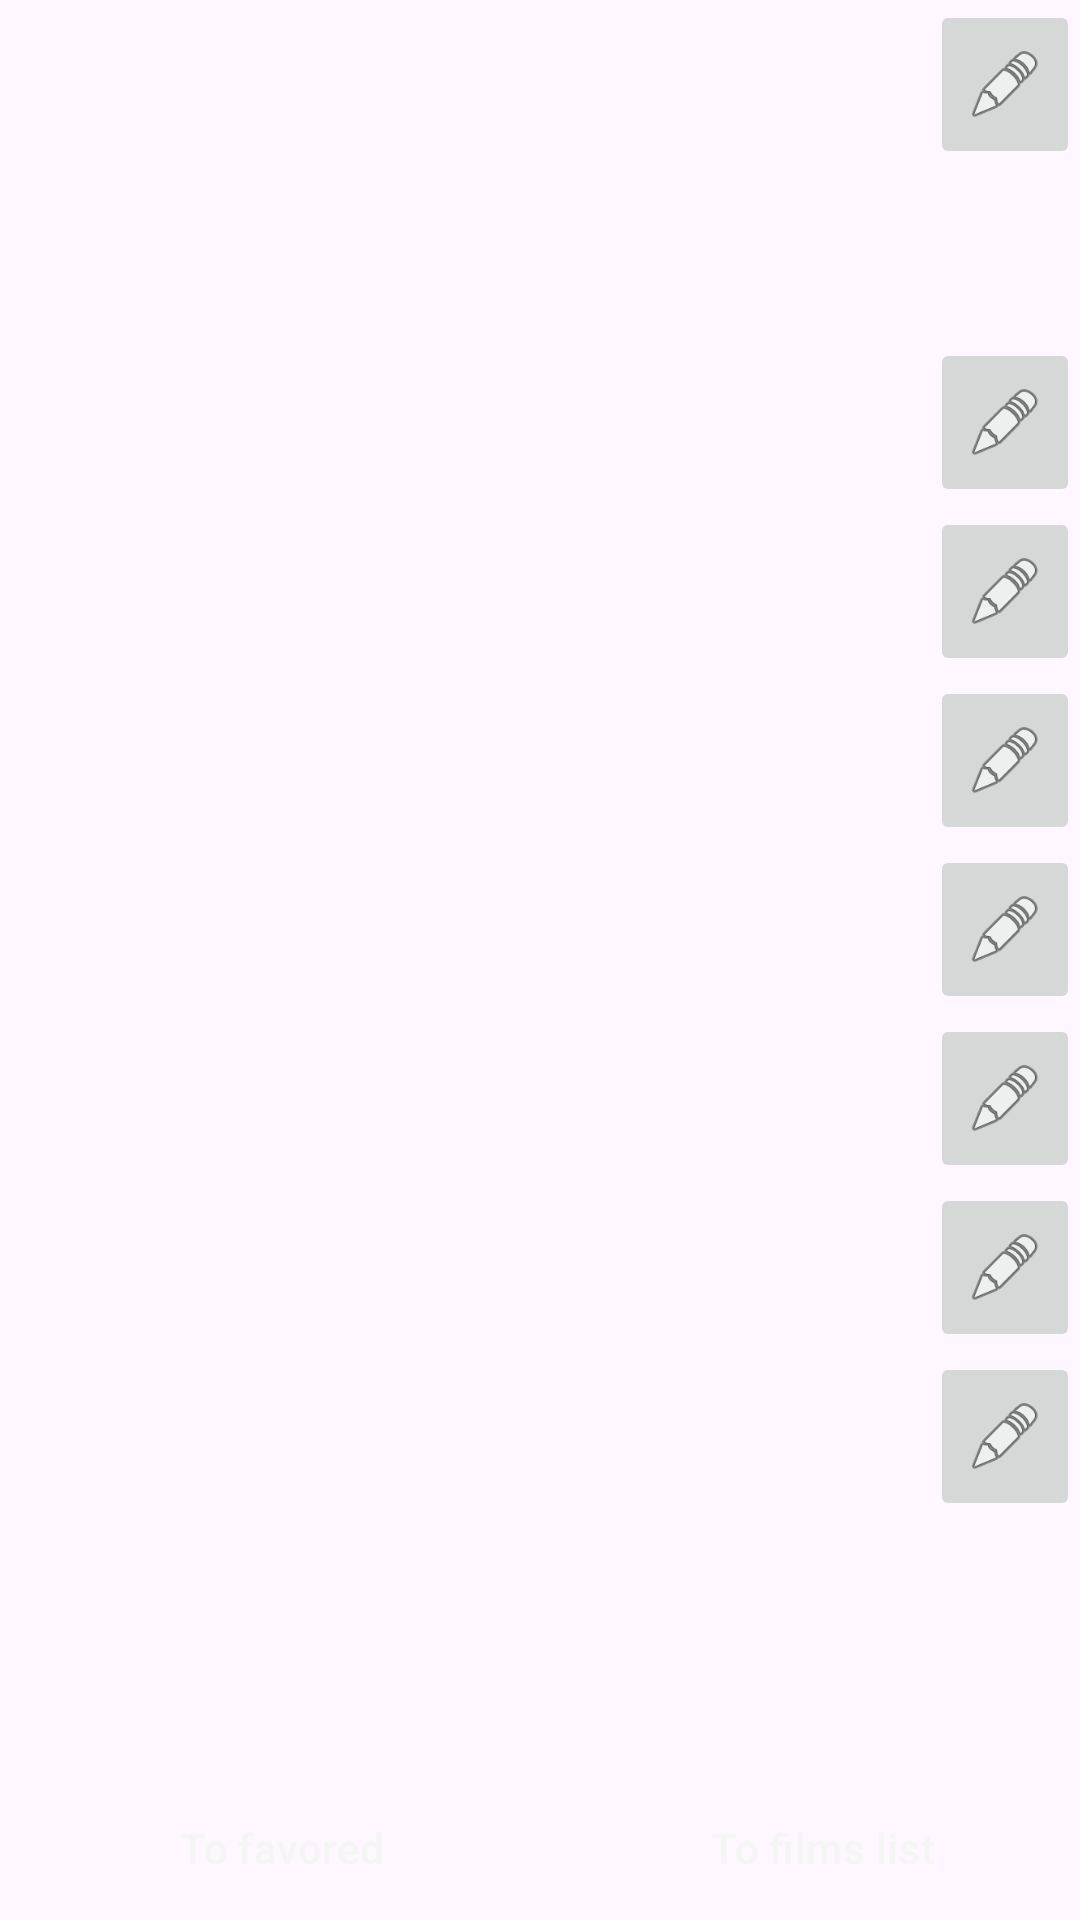

Named icons in this screenshot (1080px x 1920px) and their bounding boxes, [left=x1, top=y1, right=x2, bottom=y2]:
Edit: [left=942, top=18, right=1068, bottom=151], [left=942, top=356, right=1068, bottom=489], [left=942, top=525, right=1068, bottom=658], [left=942, top=694, right=1068, bottom=827], [left=942, top=863, right=1068, bottom=996], [left=942, top=1032, right=1068, bottom=1165], [left=942, top=1201, right=1068, bottom=1334], [left=942, top=1370, right=1068, bottom=1503]
